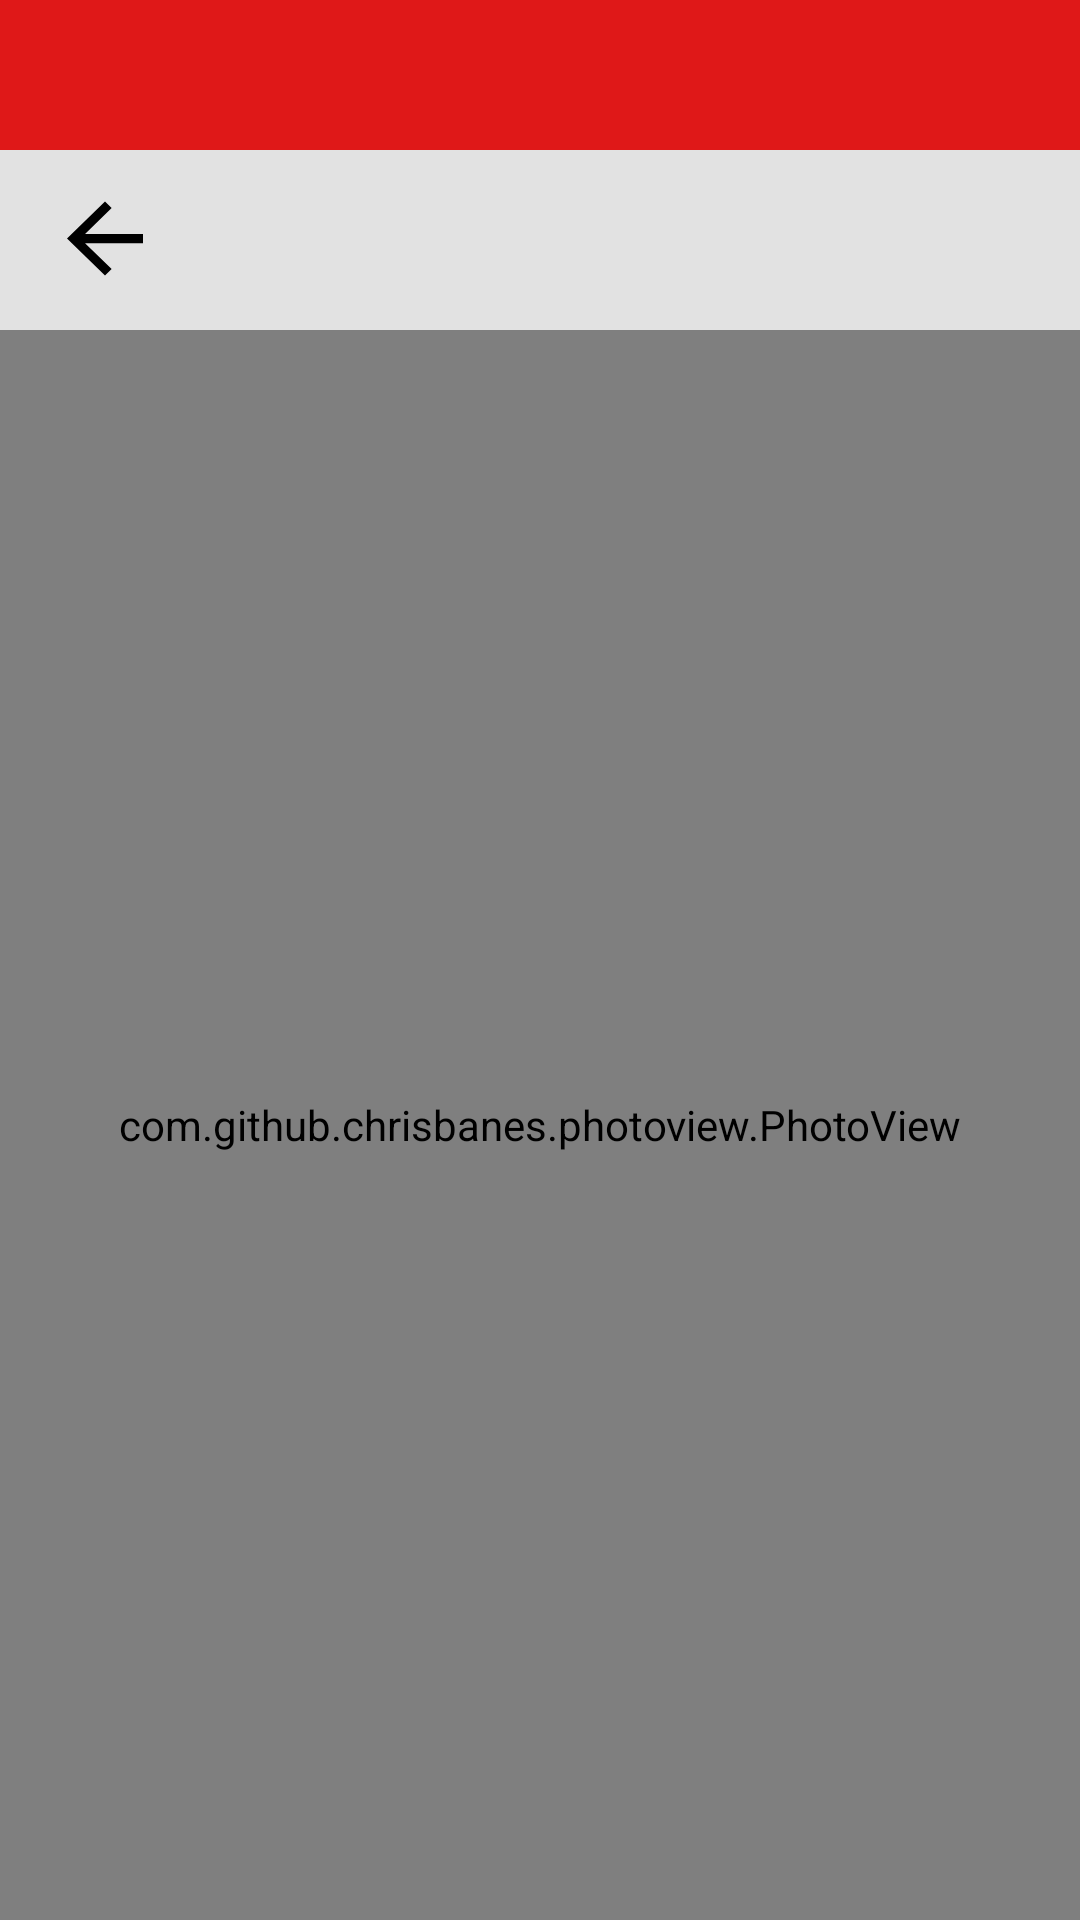

Icon bounding boxes for this 1080px×1920px phone screenshot, format (left=x1, top=y1, right=x2, bottom=y2):
back to report: (left=67, top=201, right=143, bottom=276)
